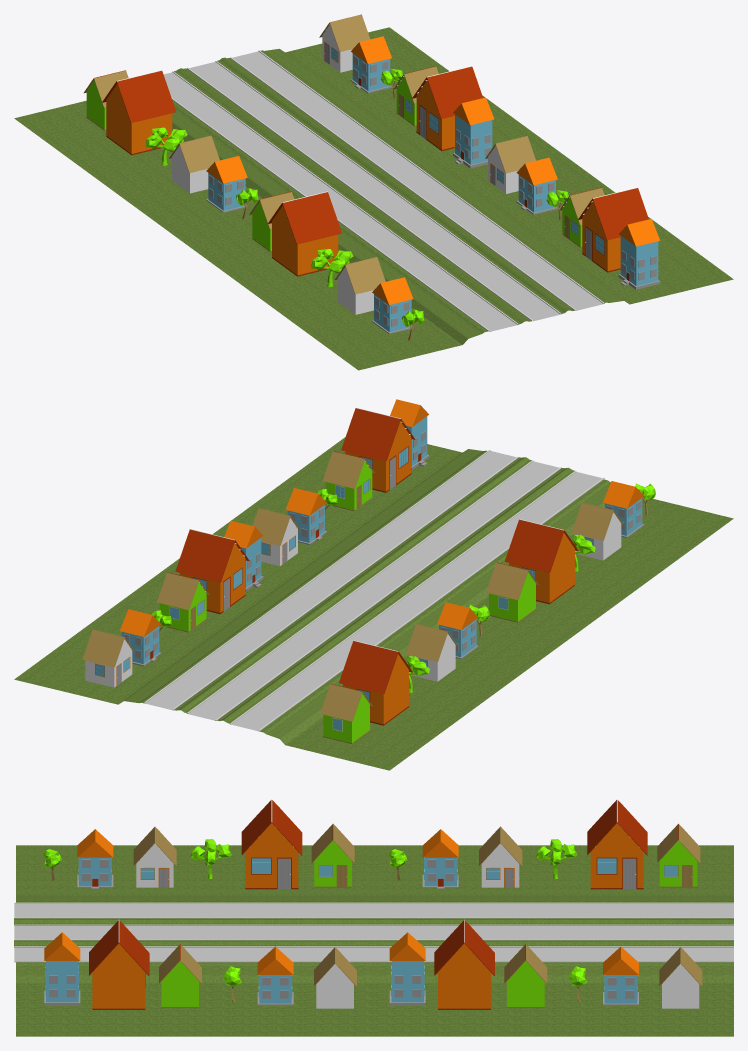
Rendered from Entrada.fbx.
3 views of the same model, one above another, from view 1: azimuth 30°, elevation 25°; view 2: azimuth 150°, elevation 25°; view 3: azimuth 270°, elevation 25° (orthographic). The views are drawn at different scales.
Parts seen in each view (by area): view 1: E-Chão, C-direita; view 2: E-Chão, C-direita; view 3: E-Chão, C-direita.
Boxes of the visible parts, box(x1,y1,x2,y2) form: E-Chão: box(14, 27, 733, 370); C-direita: box(84, 14, 660, 340); E-Chão: box(14, 437, 733, 770); C-direita: box(82, 399, 655, 743); E-Chão: box(14, 845, 733, 1036); C-direita: box(43, 799, 702, 1009).
Size of the model in its own units: 14402 by 22952 by 2546.
